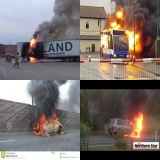fire: (33, 111, 63, 134), (102, 8, 125, 32), (127, 114, 147, 140), (26, 38, 41, 63), (125, 29, 141, 51), (100, 33, 110, 48)
